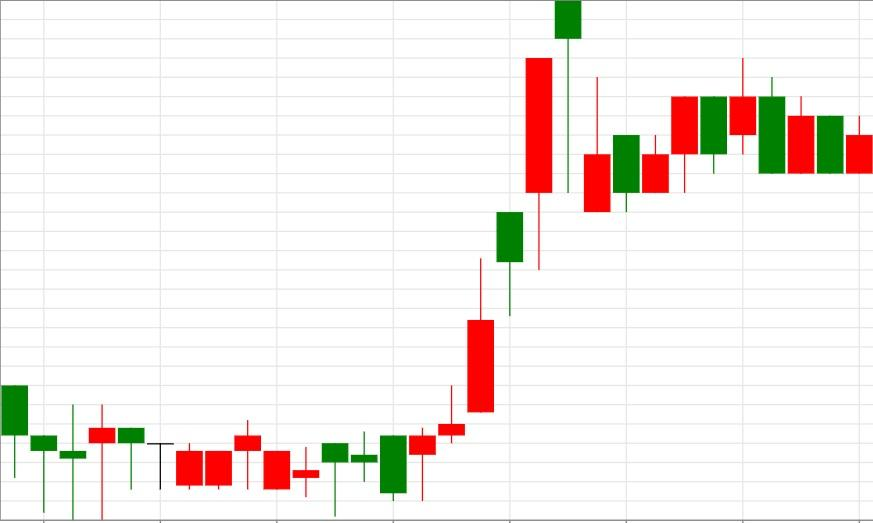hanging_man_fall: (379, 0, 582, 502)
